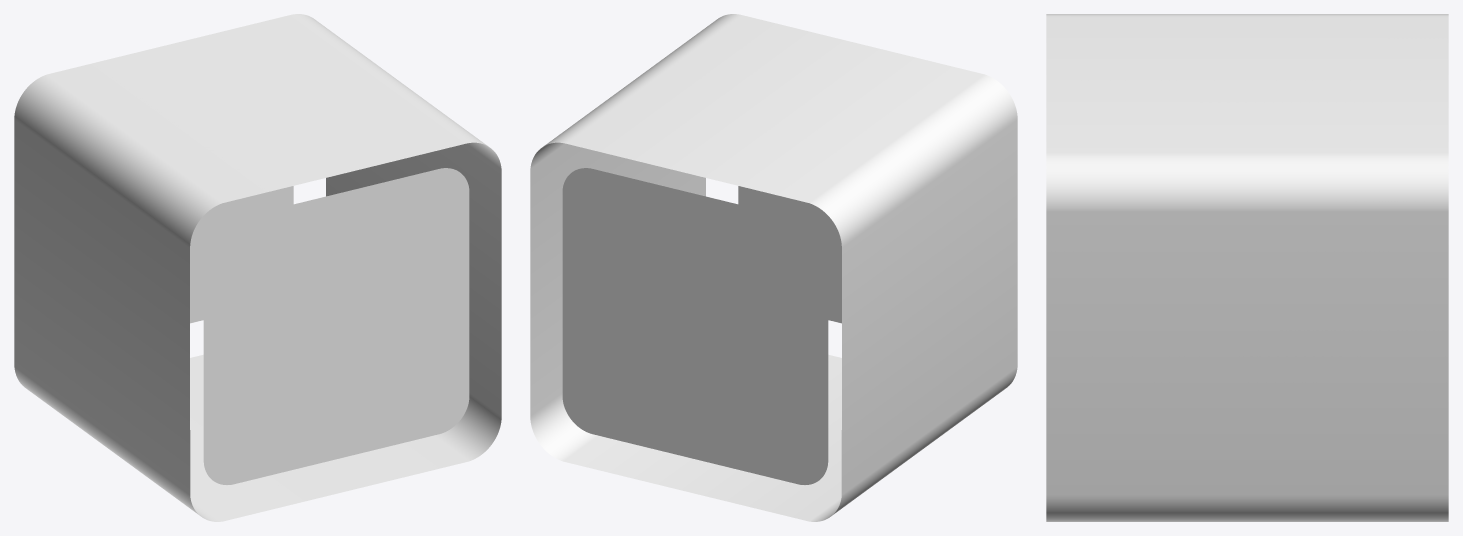
File: 未标题-1 副本.dae
3 views of the same model, side by side, from view 1: azimuth 30°, elevation 25°; view 2: azimuth 150°, elevation 25°; view 3: azimuth 270°, elevation 25° (orthographic). The views are drawn at different scales.
Visible parts, largest first — view 1: 圆角矩形_1; view 2: 圆角矩形_1; view 3: 圆角矩形_1.
Part boxes in pixels (bbox=[...]): 圆角矩形_1: bbox=[14, 14, 501, 521]; 圆角矩形_1: bbox=[530, 14, 1017, 521]; 圆角矩形_1: bbox=[1046, 14, 1448, 521].
Size of what is drawn, in the model's own units: 873 by 853 by 853.
Materials: 3 (3 with a texture image).
